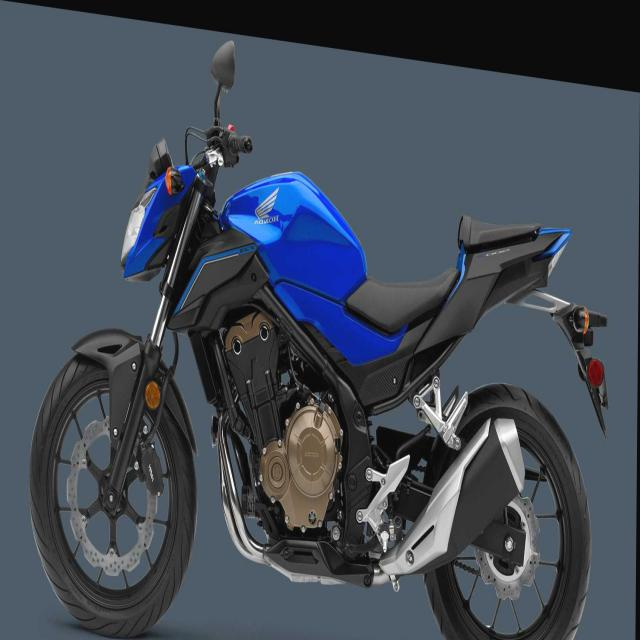CB500F: (29, 98, 612, 640)
